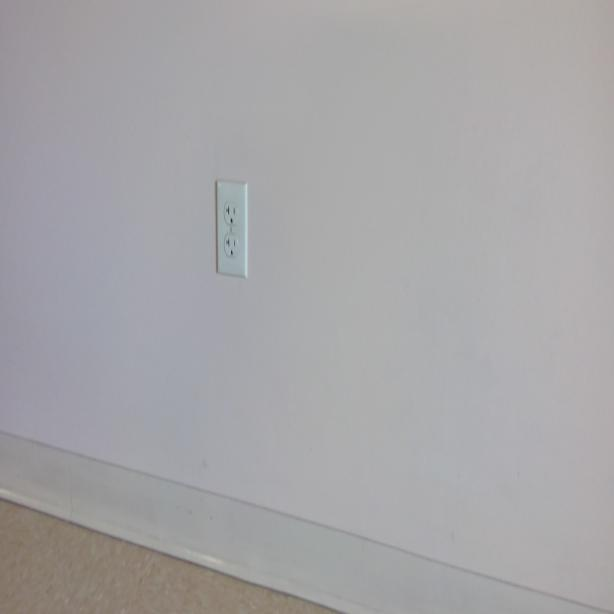typeb: (223, 200, 239, 226), (223, 234, 239, 258)
